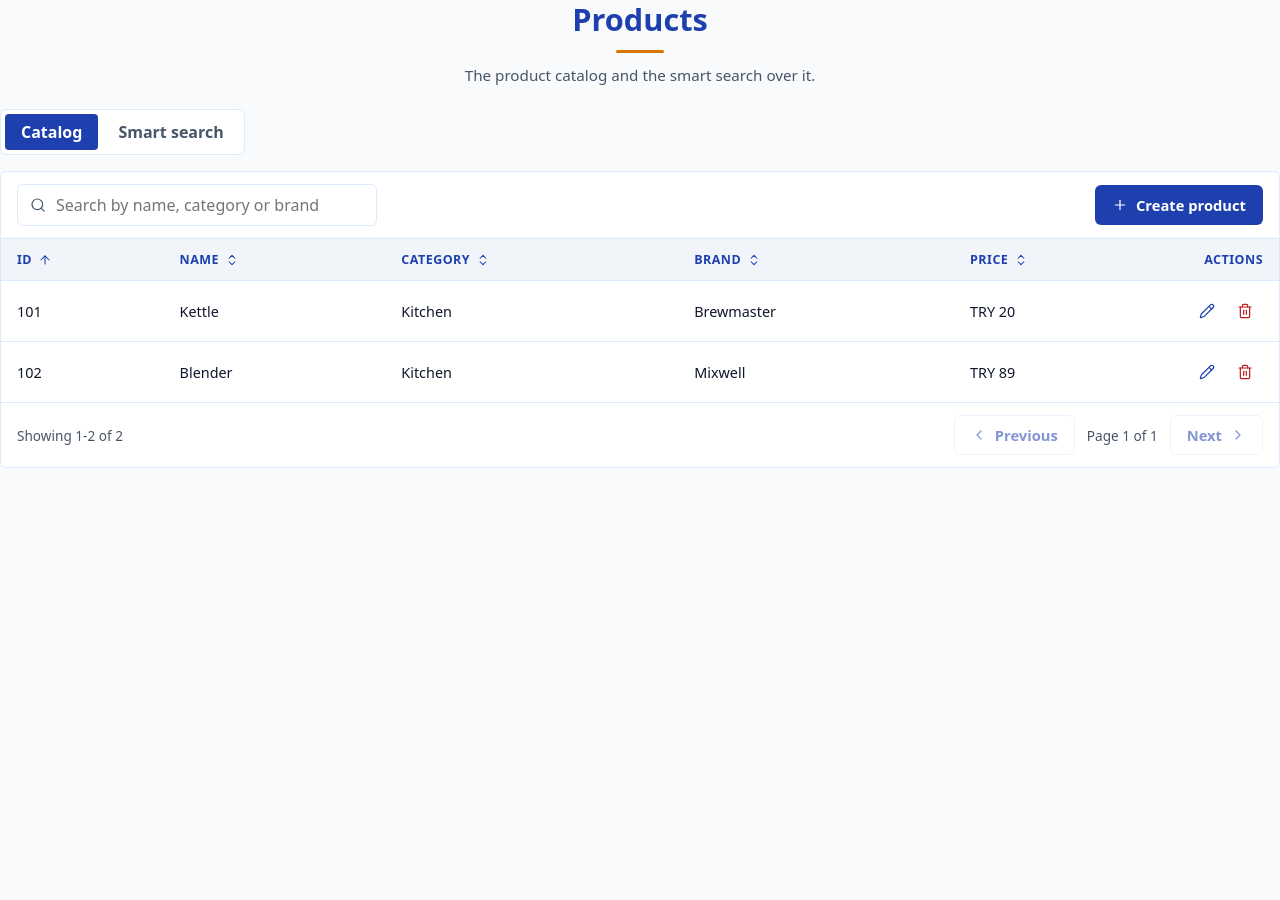
the create form reports the four required fields and sends nothing
expect the text "Kettle" is shown: met, box [164,281,385,342]
Click the button "Create product": (1179, 205) [1095,185,1263,225]
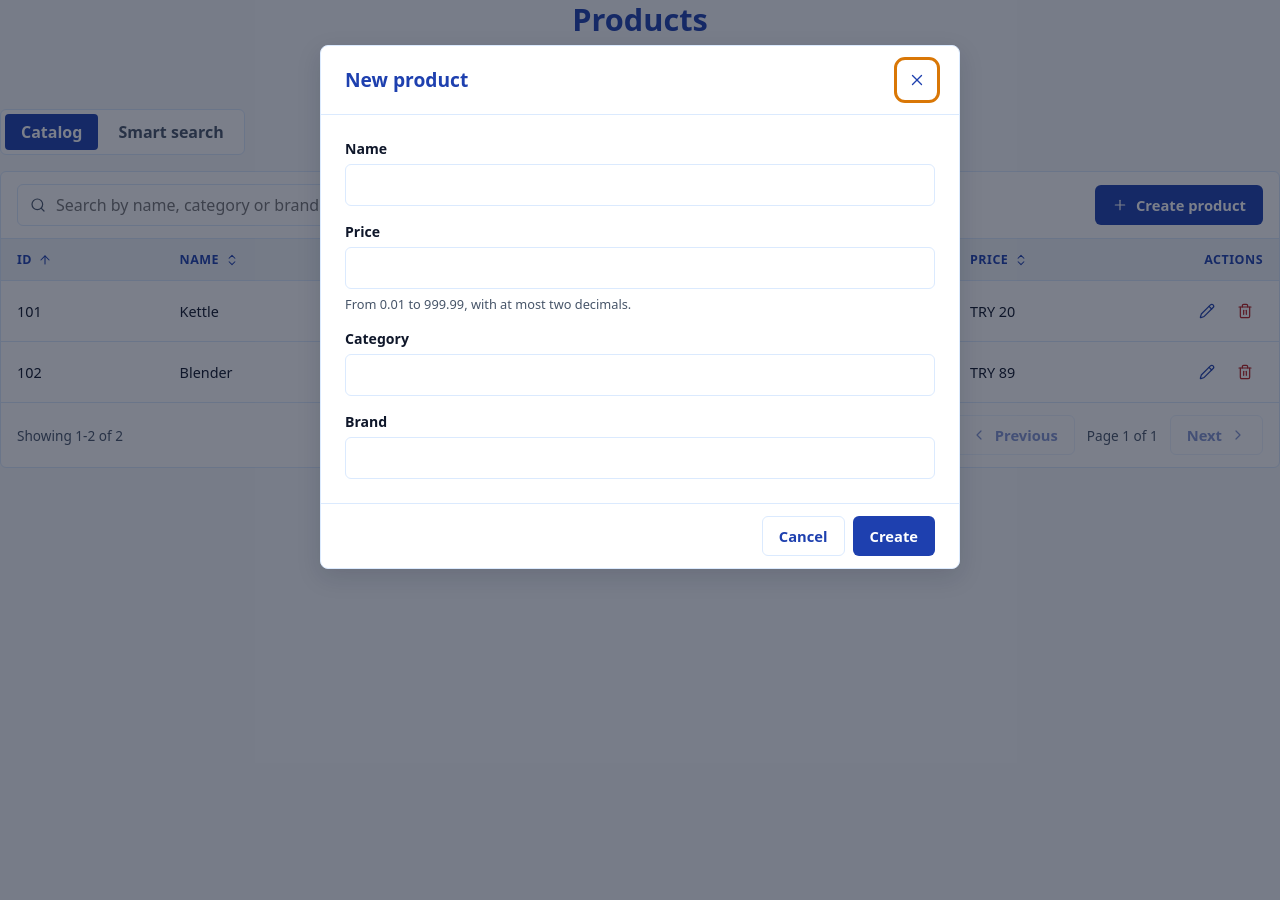
Click the button "Create": (894, 536) [852,516,935,556]
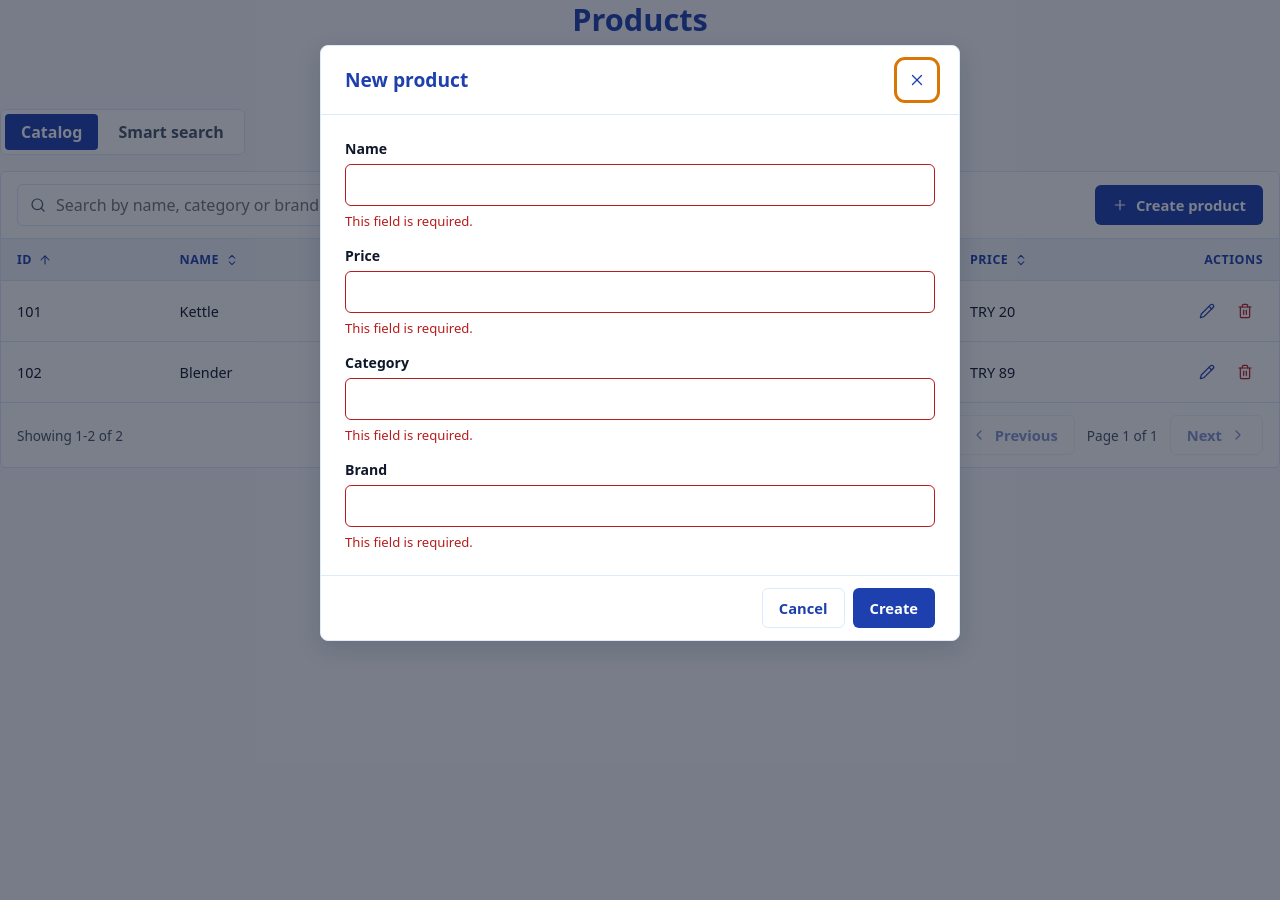
expect the text "This field is required." is shown 4 times: met, box [345,212,473,230]; [345,319,473,337]; [345,426,473,444]; [345,533,473,551]
